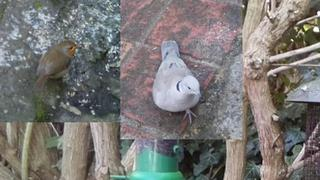collared dove: (152, 40, 202, 125)
robin: (33, 40, 80, 91)
